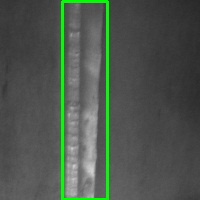scratches: (62, 1, 107, 199)
